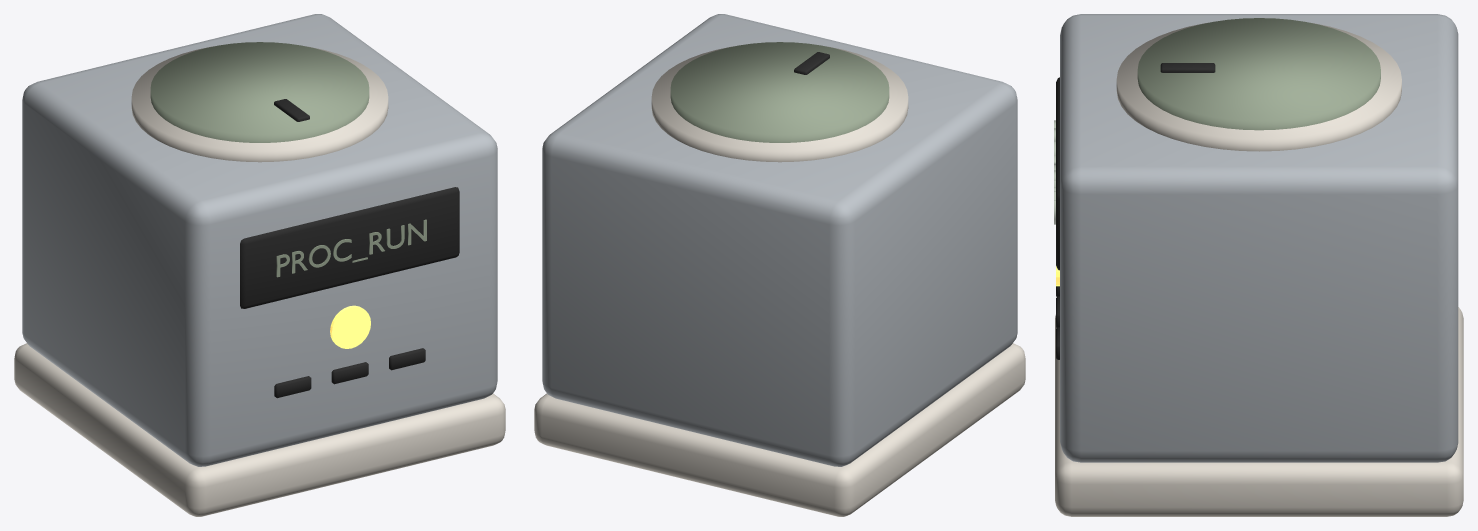
The model's file is process.glb.
3 views of the same model, side by side, from view 1: azimuth 30°, elevation 25°; view 2: azimuth 150°, elevation 25°; view 3: azimuth 270°, elevation 25° (orthographic). The views are drawn at different scales.
Visible parts, largest first — view 1: ProcessCube, ProcessBase, ProcessRotor, StatusScreen, RotorBezel, Label_PROC_RUN, ActivityLed, VentSlot_0, VentSlot_1, VentSlot_2; view 2: ProcessCube, ProcessBase, ProcessRotor, RotorBezel; view 3: ProcessCube, ProcessBase, ProcessRotor, RotorBezel, StatusScreen, RotorTick.
Boxes of the visible parts, x1,y1,x2,y2 form: ProcessCube: (22,14,497,466); ProcessBase: (14,343,505,516); ProcessRotor: (150,42,369,142); StatusScreen: (240,187,459,308); RotorBezel: (131,46,388,162); Label_PROC_RUN: (276,219,426,277); ActivityLed: (330,305,370,348); VentSlot_0: (274,376,311,398); VentSlot_1: (331,362,368,384); VentSlot_2: (389,348,425,370); ProcessCube: (542,14,1017,466); ProcessBase: (534,343,1025,516); ProcessRotor: (670,42,889,142); RotorBezel: (651,46,908,162); ProcessCube: (1060,14,1458,462); ProcessBase: (1055,307,1463,516); ProcessRotor: (1137,18,1380,130); RotorBezel: (1116,22,1401,151); StatusScreen: (1056,77,1059,270); RotorTick: (1160,63,1215,72).
Size of the model in its own units: 1.95 by 1.95 by 1.95.
